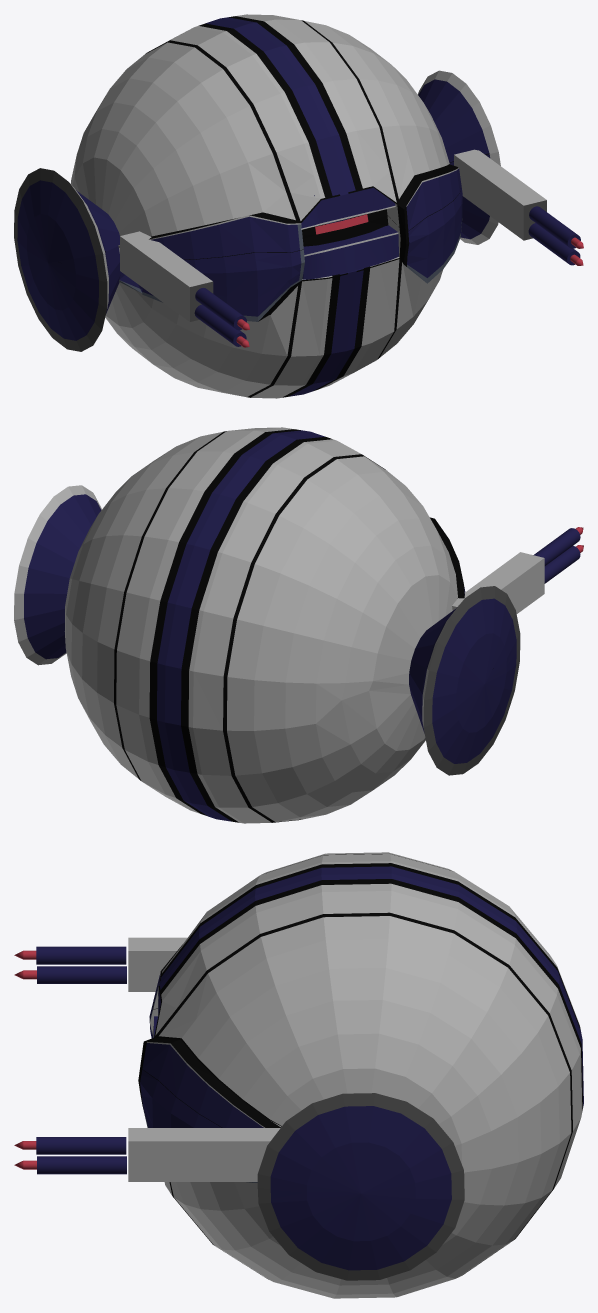
Rendered from RobotReady.fbx.
The picture shows the model from 3 angles, top to bottom: view 1: azimuth 30°, elevation 25°; view 2: azimuth 150°, elevation 25°; view 3: azimuth 270°, elevation 25°; orthographic projection. The views are drawn at different scales.
Parts seen in each view (by area): view 1: pSphere5, pCube10, pCube1, pCube3, pCube4, pCylinder8, pCylinder21, pCylinder20, pCylinder3; view 2: pSphere5, pCube10, pCylinder8, pCylinder3; view 3: pSphere5, pCube1, pCube10, pCylinder8, pCylinder20, pCylinder21, pCylinder3.
Part boxes in pixels (x1=…): pSphere5: x1=14, y1=14, x2=500, y2=398; pCube10: x1=120, y1=231, x2=213, y2=321; pCube1: x1=454, y1=149, x2=546, y2=240; pCube3: x1=302, y1=225, x2=398, y2=279; pCube4: x1=301, y1=187, x2=395, y2=229; pCylinder8: x1=195, y1=288, x2=246, y2=330; pCylinder21: x1=529, y1=206, x2=580, y2=248; pCylinder20: x1=528, y1=223, x2=580, y2=265; pCylinder3: x1=194, y1=304, x2=246, y2=346; pSphere5: x1=14, y1=427, x2=520, y2=823; pCube10: x1=452, y1=552, x2=544, y2=613; pCylinder8: x1=533, y1=528, x2=580, y2=565; pCylinder3: x1=544, y1=546, x2=580, y2=583; pSphere5: x1=138, y1=852, x2=583, y2=1298; pCube1: x1=128, y1=1128, x2=280, y2=1181; pCube10: x1=128, y1=937, x2=187, y2=991; pCylinder8: x1=36, y1=946, x2=126, y2=964; pCylinder20: x1=37, y1=1156, x2=126, y2=1174; pCylinder21: x1=36, y1=1137, x2=126, y2=1154; pCylinder3: x1=37, y1=966, x2=126, y2=983.
Bounding box in the file's own units: 2.53 × 1.98 × 2.53.
